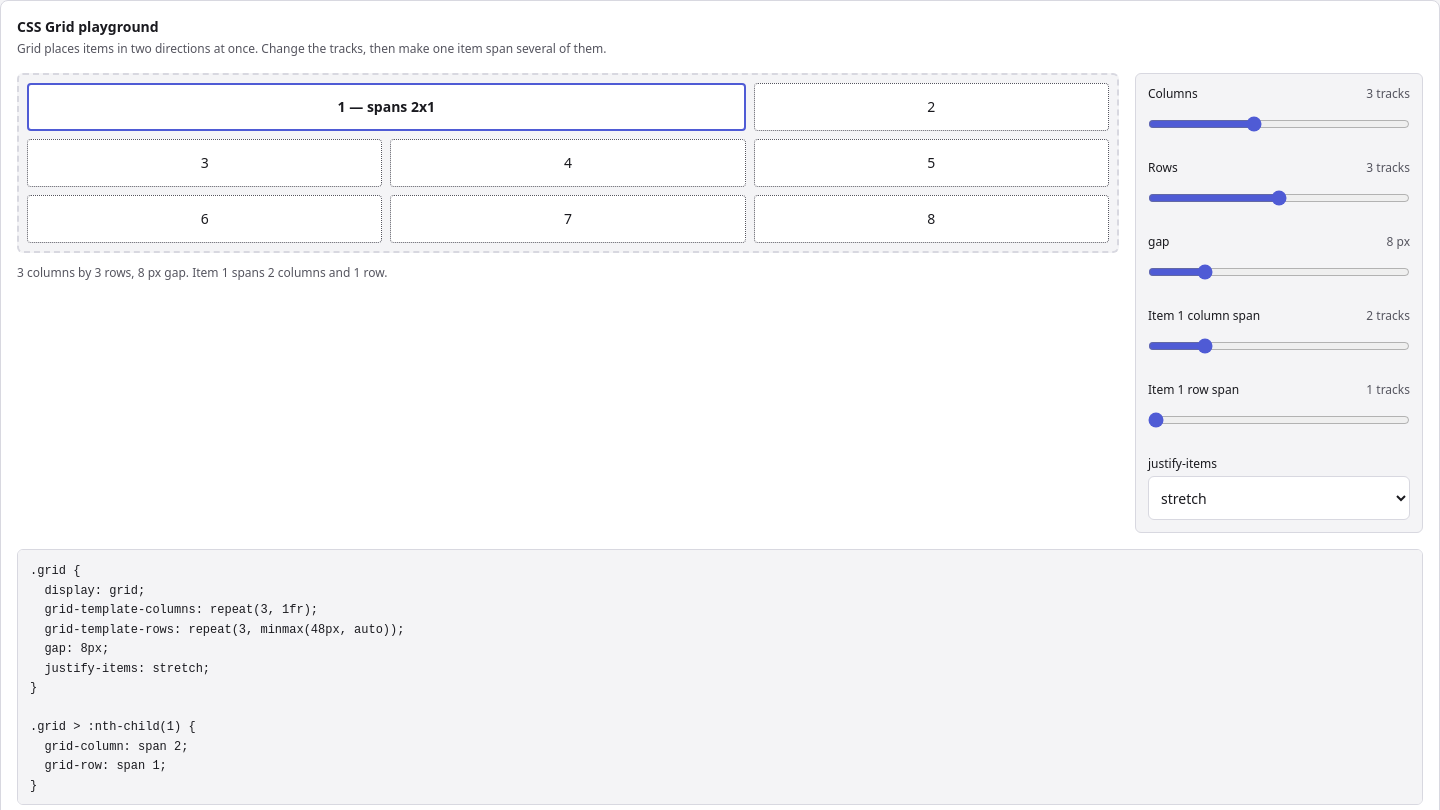
Test: GridPlayground › changing the column count changes the container and the code
The image size is (1440, 810).
Set the slider labelled "Columns 3 tracks" to "5". click: (1353, 124)
box: 1148,102 -> 1410,146
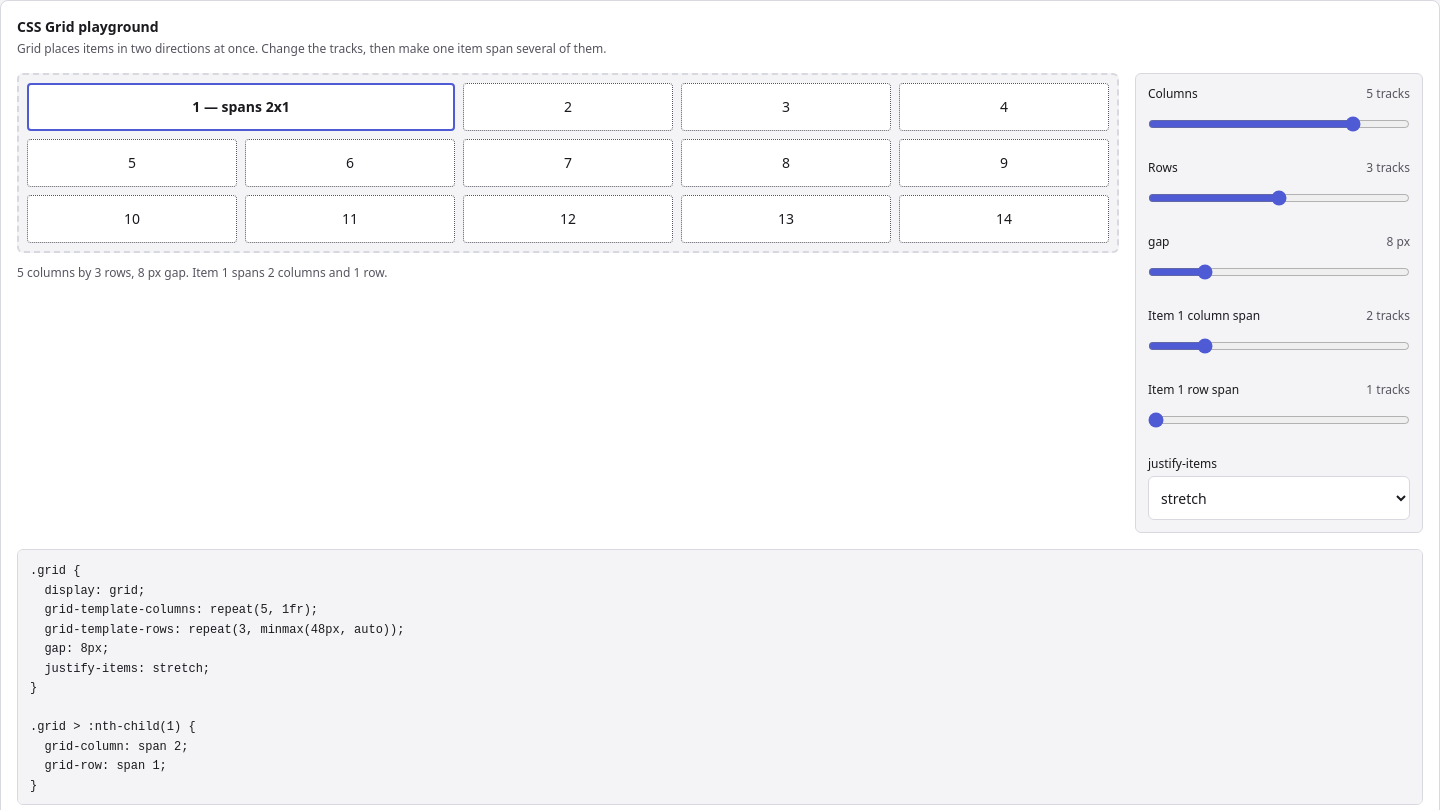
expect the element with test id "grid-code" shows "repeat(5, 1fr)": met, box 30,564 -> 404,792
